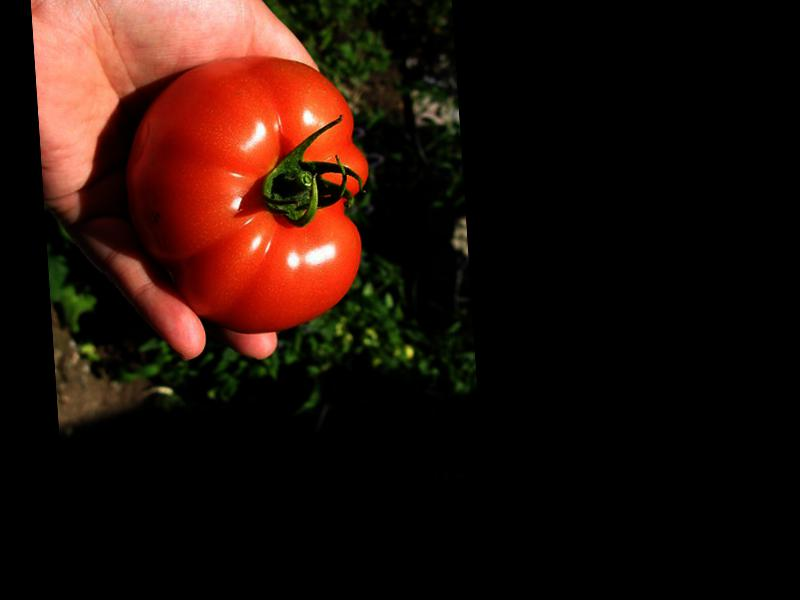Tomato: (122, 51, 378, 341)
